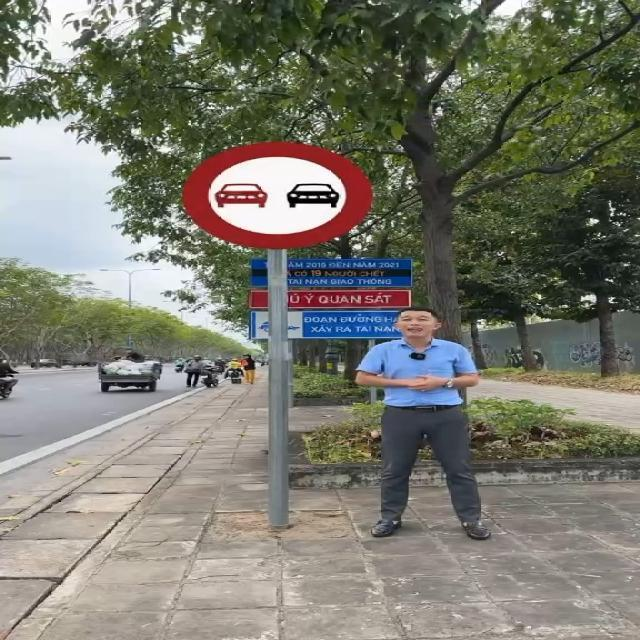125-cam-vuot: (183, 136, 369, 244)
